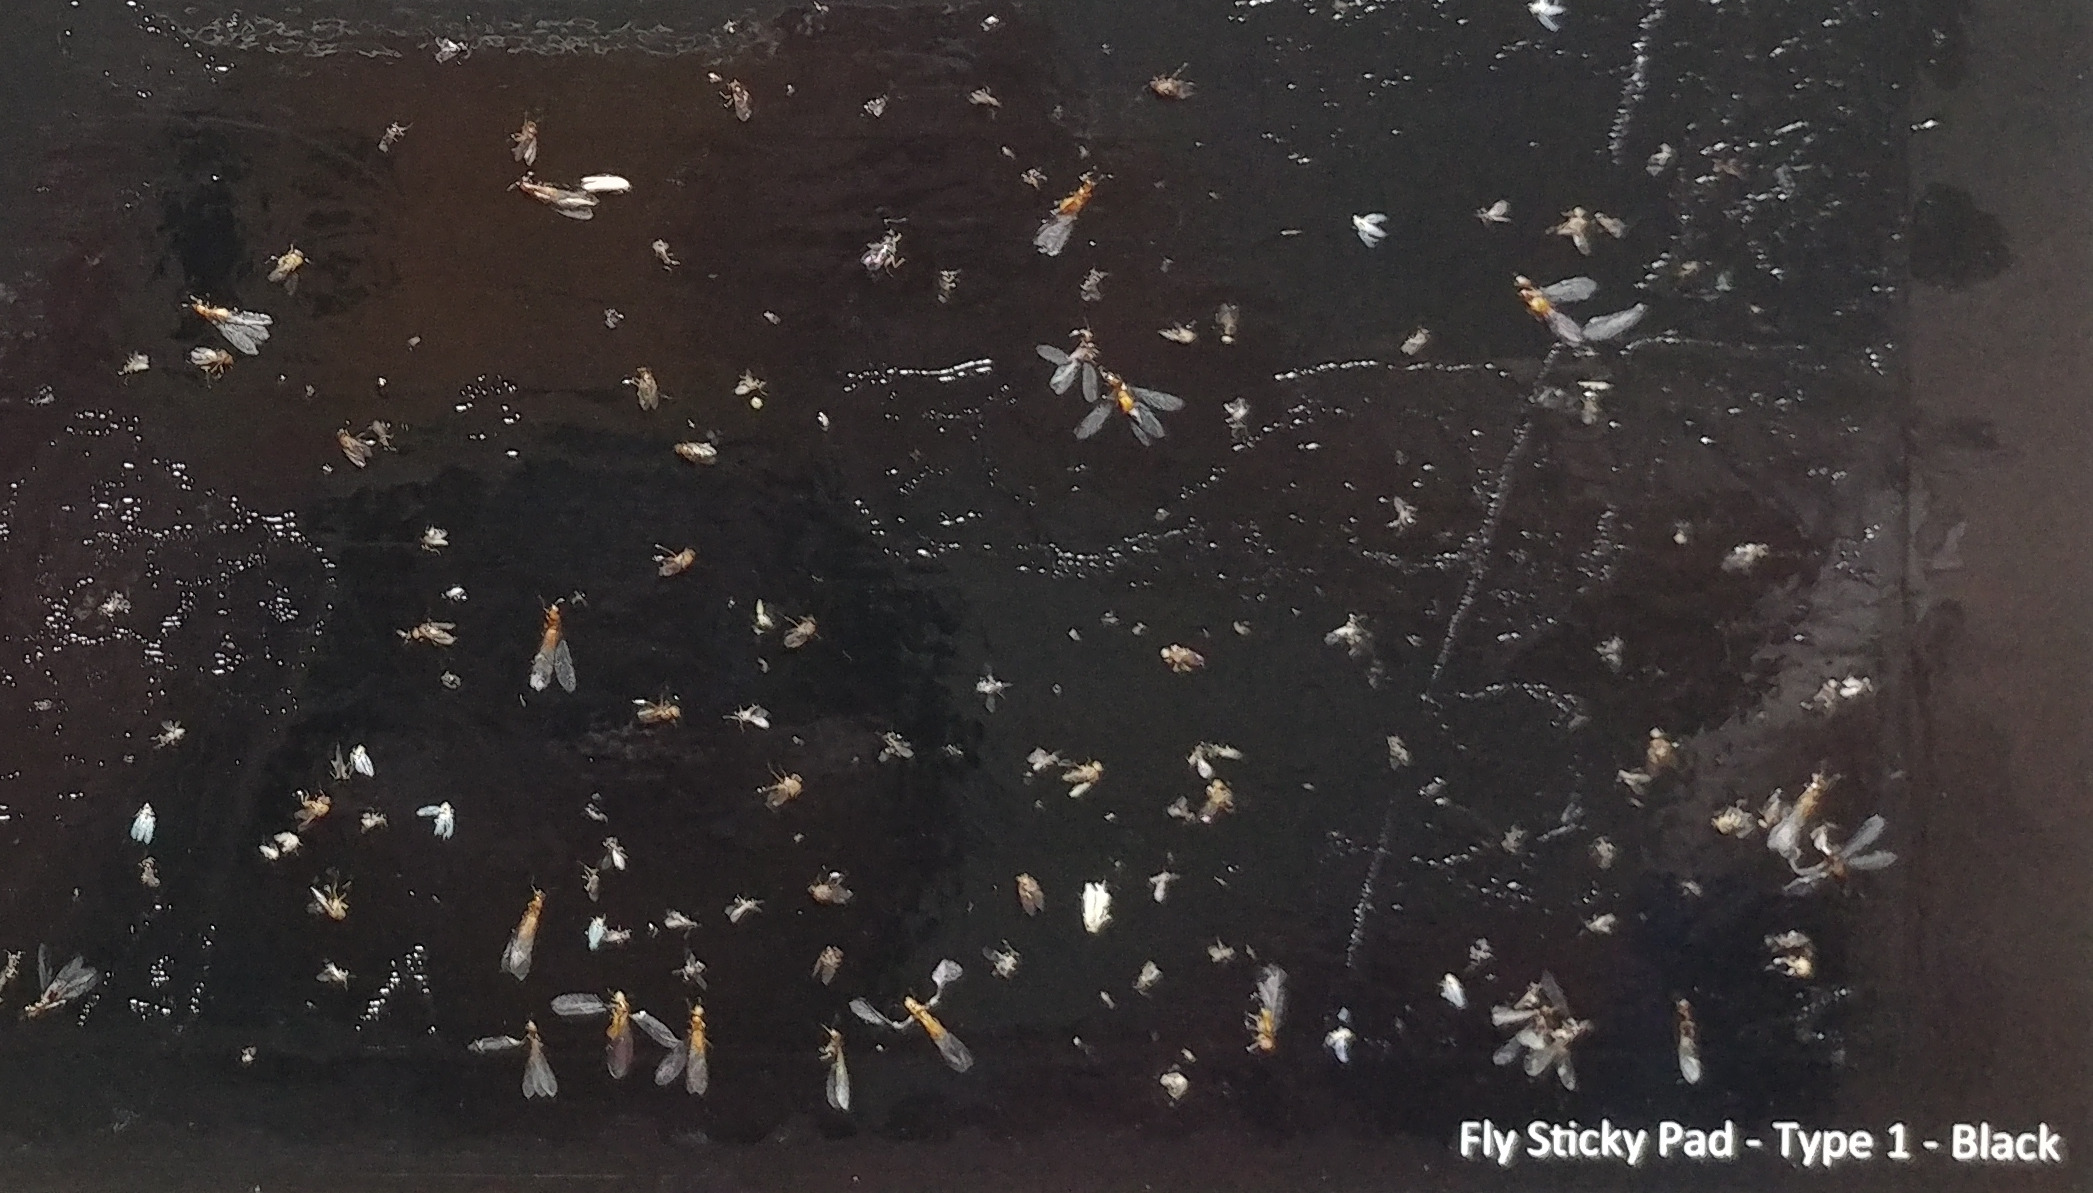flying termite: (1502, 257, 1640, 365), (522, 584, 605, 732), (548, 964, 645, 1090), (164, 283, 276, 381), (507, 888, 561, 992), (673, 1008, 727, 1095)
